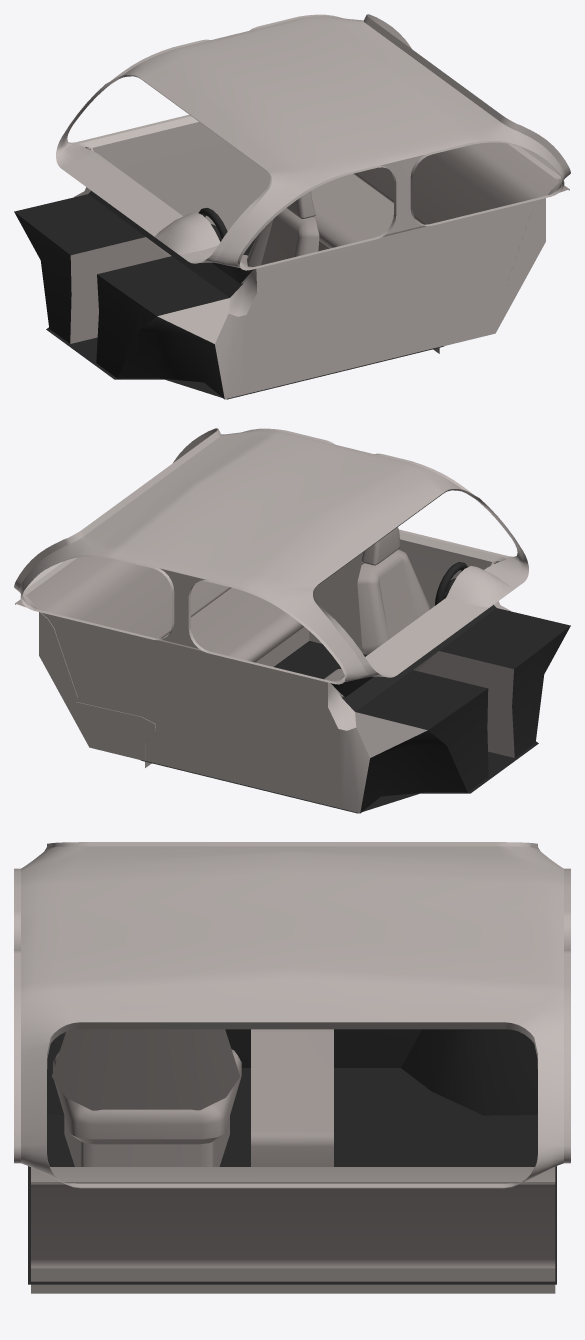
File: sedanInterior.fbx
The picture shows the model from 3 angles, top to bottom: view 1: azimuth 30°, elevation 25°; view 2: azimuth 150°, elevation 25°; view 3: azimuth 270°, elevation 25°; orthographic projection. The views are drawn at different scales.
Parts seen in each view (by area): view 1: sedanInterior, backSeat, frontSeat, sedanFloor; view 2: sedanInterior, backSeat, frontSeat, sedanFloor, steeringWheel; view 3: sedanInterior, backSeat, frontSeat, sedanFloor.
Part boxes in pixels (box(x1,y1,x2,y2)): sedanInterior: box(14, 14, 570, 399); backSeat: box(311, 142, 569, 353); frontSeat: box(246, 191, 319, 266); sedanFloor: box(46, 237, 443, 399); sedanInterior: box(14, 428, 570, 813); backSeat: box(15, 556, 309, 767); frontSeat: box(357, 527, 429, 654); sedanFloor: box(141, 641, 538, 813); steeringWheel: box(435, 562, 467, 605); sedanInterior: box(14, 842, 570, 1188); backSeat: box(31, 1167, 555, 1293); frontSeat: box(51, 1029, 241, 1166); sedanFloor: box(28, 1068, 556, 1284).
Bounding box in the file's own units: 533 × 265 × 384.
